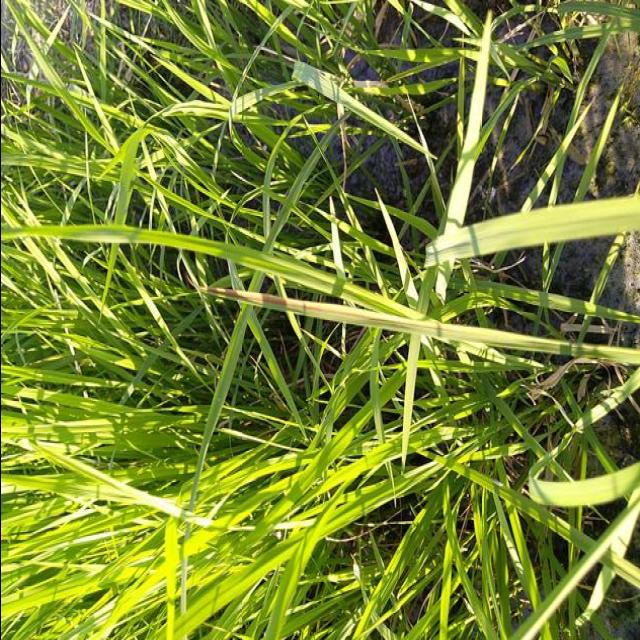Leaf Streak: (208, 290, 640, 364)
